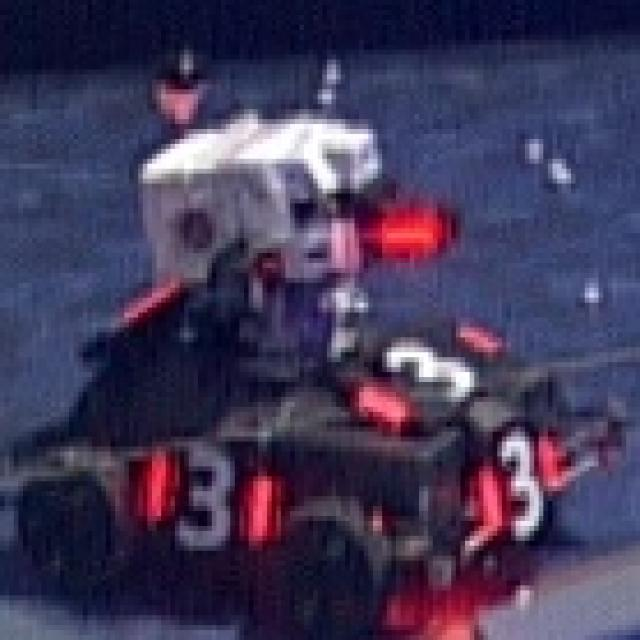R3: (355, 313, 511, 422), (138, 436, 276, 556), (483, 422, 562, 546)
